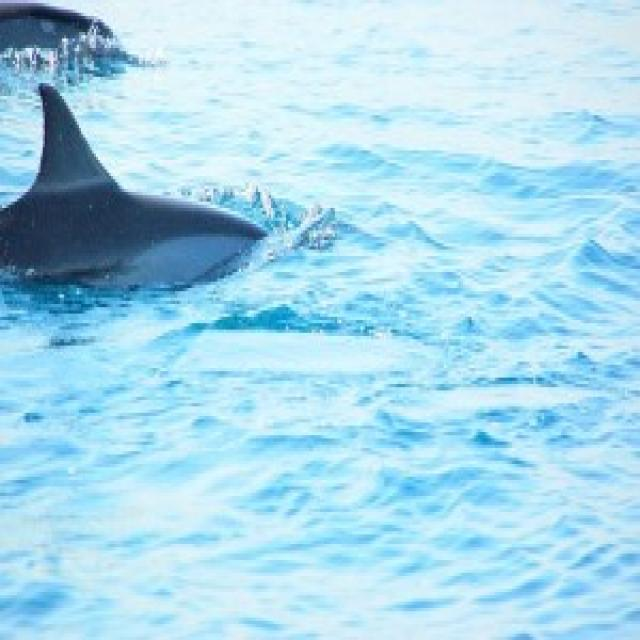Dolphin: (0, 83, 274, 319), (0, 0, 150, 70)
